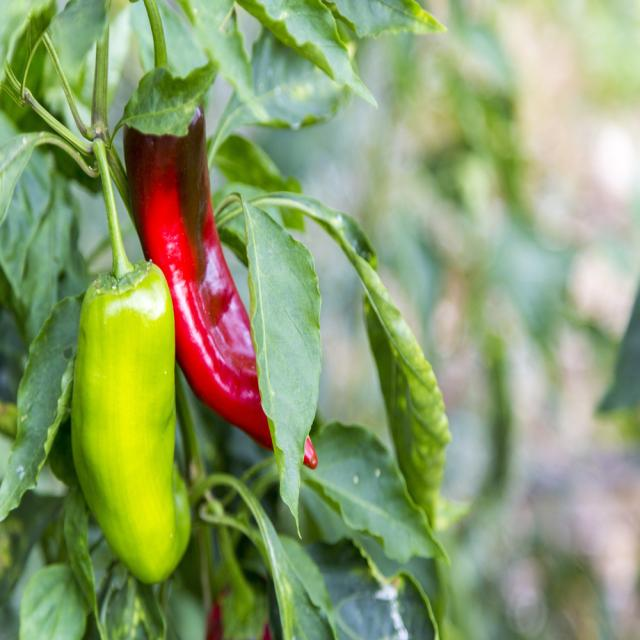Ripe: (124, 105, 271, 448)
Unripe: (71, 262, 190, 583)
